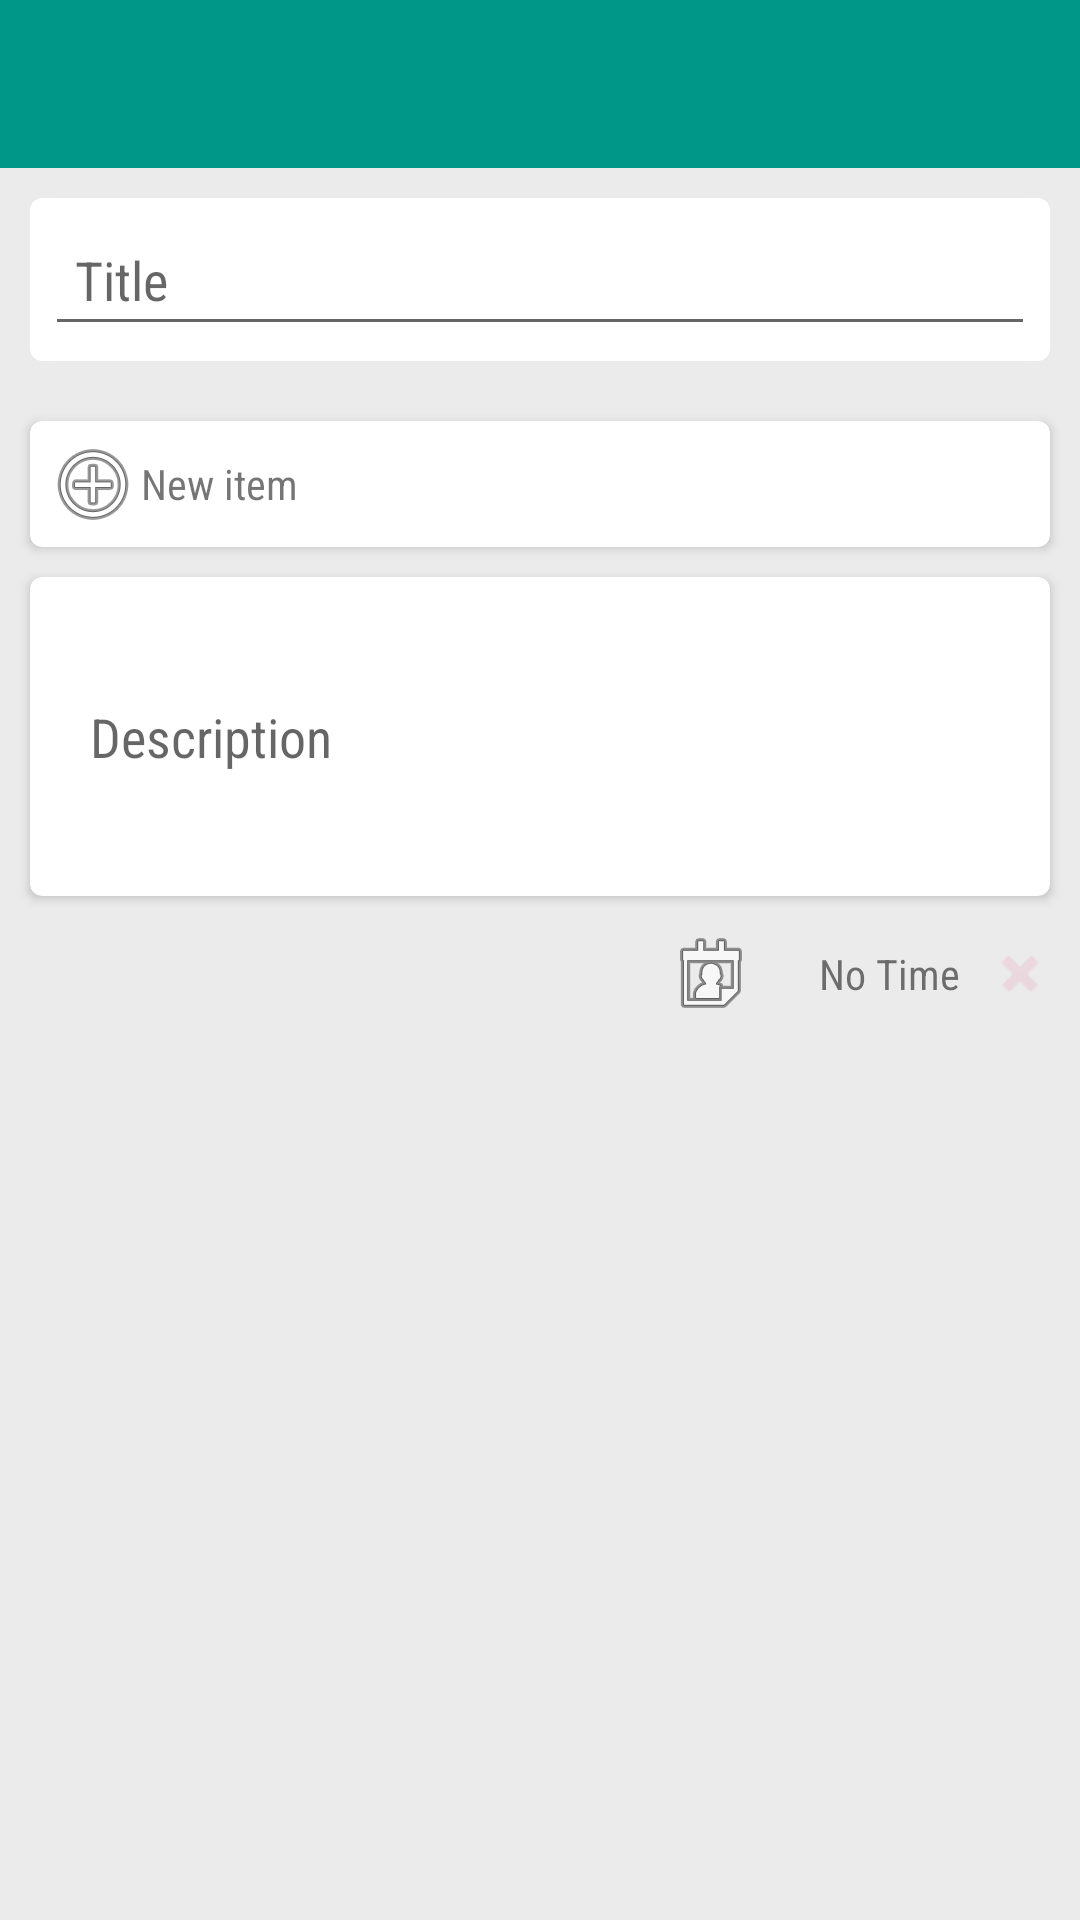

Named icons in this screenshot (1080 × 1920) and their bounding boxes, [x1,y1,x2,y2]:
add: [57,449,129,520]
calendar: [680,938,742,1008]
